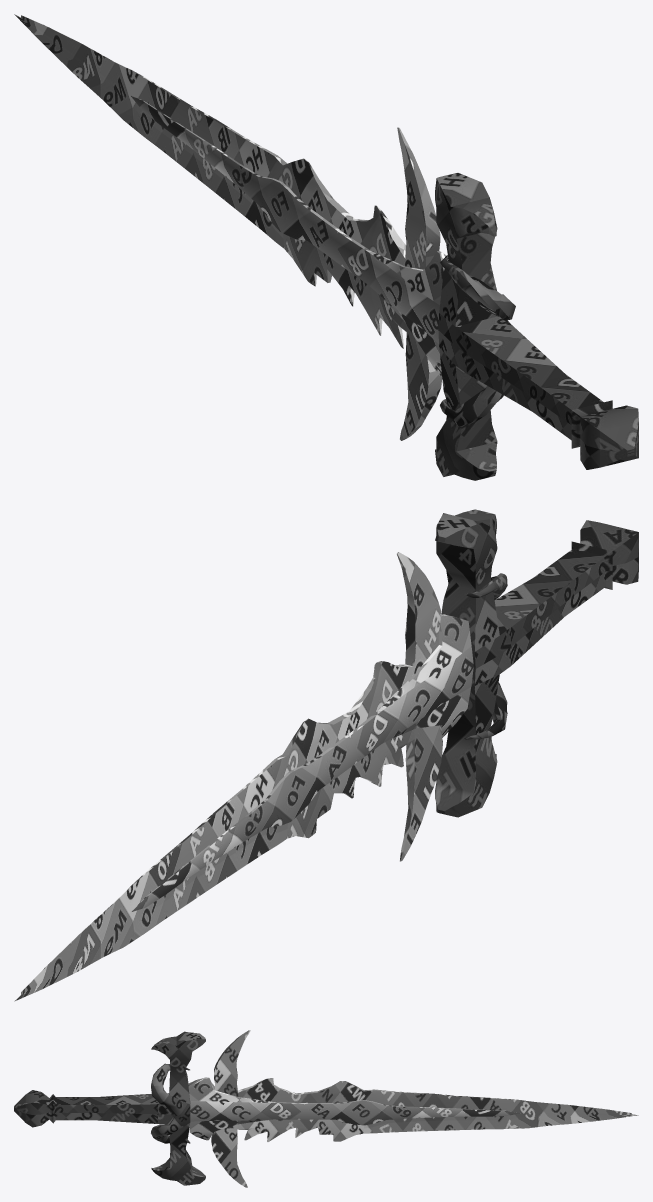
File: Sword.fbx
The picture shows the model from 3 angles, top to bottom: view 1: azimuth 30°, elevation 25°; view 2: azimuth 150°, elevation 25°; view 3: azimuth 270°, elevation 25°; orthographic projection. The views are drawn at different scales.
Parts seen in each view (by area): view 1: Blade, Sword_HIlt2; view 2: Blade, Sword_HIlt2; view 3: Blade, Sword_HIlt2.
Boxes of the visible parts, x1,y1,x2,y2 form: Blade: [14, 14, 448, 440]; Sword_HIlt2: [435, 173, 638, 480]; Blade: [14, 552, 473, 1001]; Sword_HIlt2: [435, 509, 638, 817]; Blade: [188, 1030, 638, 1187]; Sword_HIlt2: [14, 1031, 205, 1185].
Bounding box in the file's own units: 0.3233 × 1.59 × 5.72.
2 materials, 2 textured.
